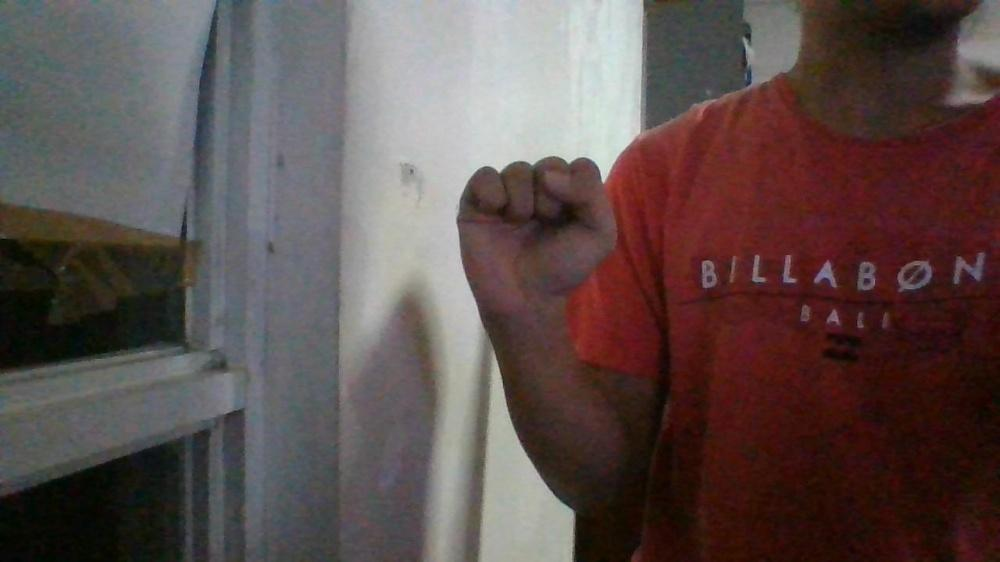s: (454, 155, 619, 295)
